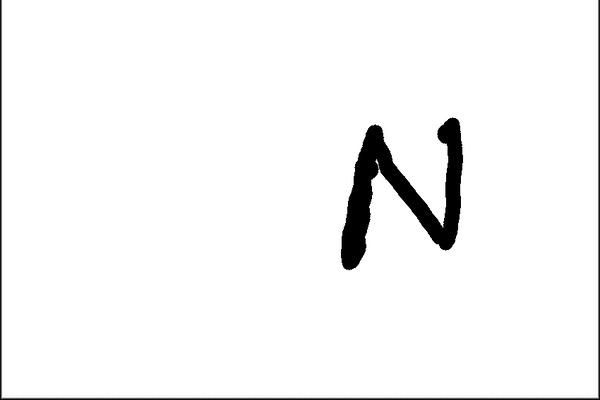N: (338, 115, 469, 272)
